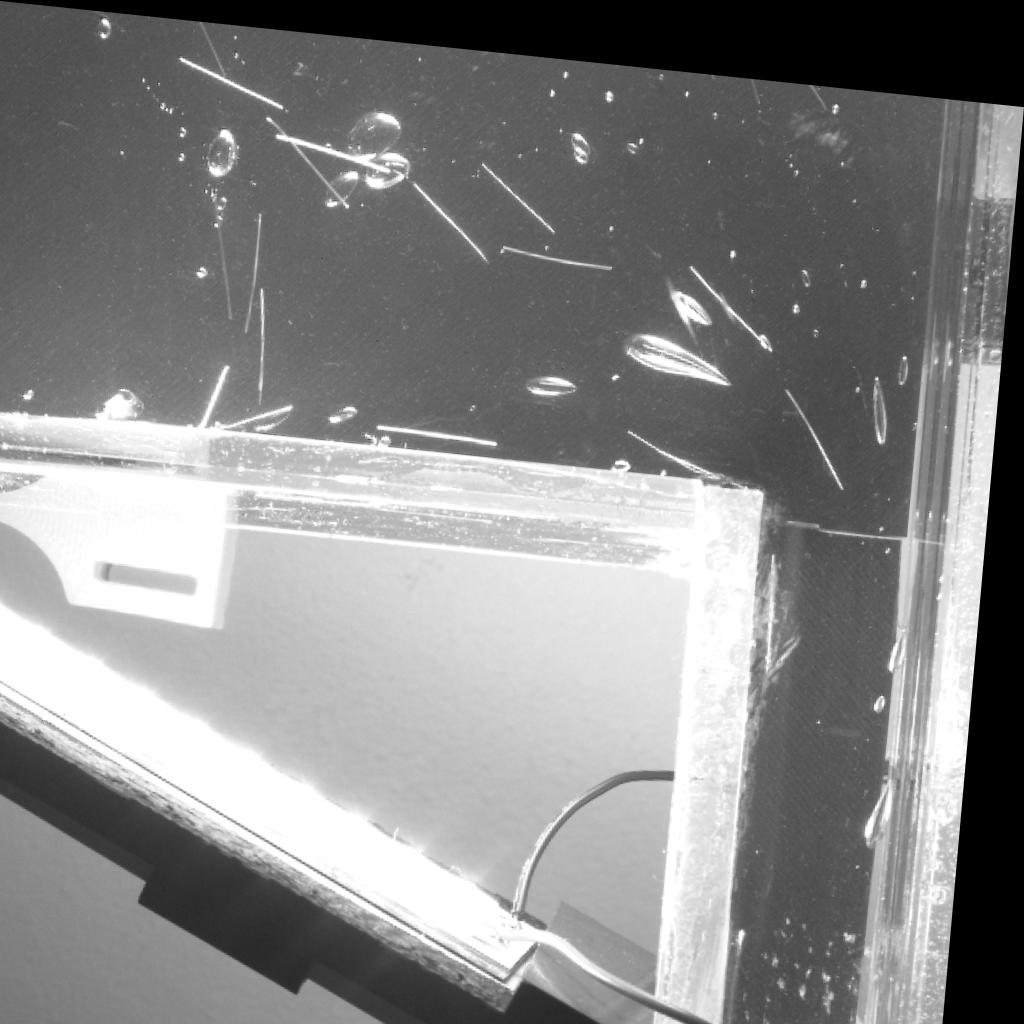Fiber: (688, 243, 785, 338), (263, 106, 358, 202), (786, 367, 861, 476), (411, 165, 496, 254), (477, 147, 566, 225), (170, 50, 292, 105), (270, 122, 400, 171), (623, 413, 734, 467), (495, 226, 620, 260), (374, 410, 514, 439), (739, 909, 772, 1021), (199, 353, 244, 433), (216, 207, 243, 324), (226, 392, 305, 430), (191, 16, 235, 80), (249, 203, 270, 334), (261, 279, 275, 398), (775, 532, 786, 660), (806, 66, 832, 99), (748, 62, 765, 93)
